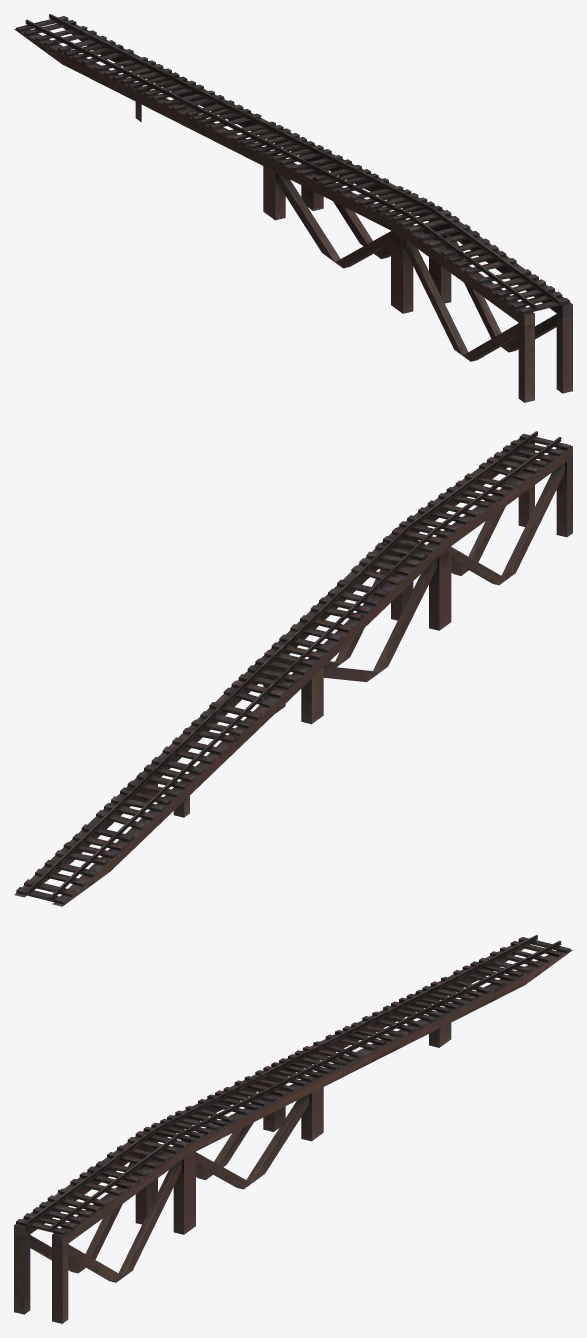
3 views of the same model, one above another, from view 1: azimuth 30°, elevation 25°; view 2: azimuth 150°, elevation 25°; view 3: azimuth 330°, elevation 25° (orthographic).
Parts seen in each view (by area): view 1: body0_model0_lod0_mesh0; view 2: body0_model0_lod0_mesh0; view 3: body0_model0_lod0_mesh0.
Part boxes in pixels (x1,y1,x2,y2): body0_model0_lod0_mesh0: (14,14,572,402); body0_model0_lod0_mesh0: (14,431,572,906); body0_model0_lod0_mesh0: (14,935,572,1323).
Size of the model in its own units: 56.5 by 103 by 1024.
Materials: 1 (1 with a texture image).
